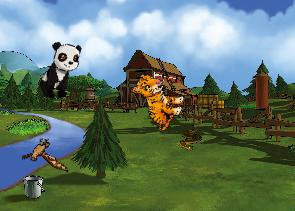eagle: (21, 137, 68, 173)
panda: (36, 38, 84, 104)
tiger: (122, 69, 190, 134)
